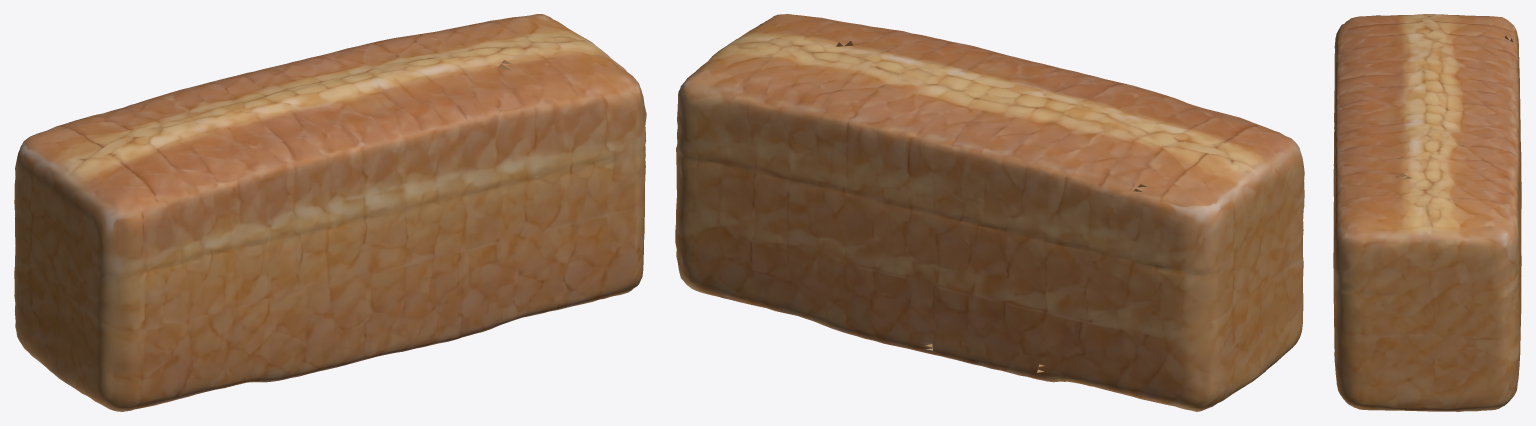
File: bread.glb
The picture shows the model from 3 angles, left to right: view 1: azimuth 30°, elevation 25°; view 2: azimuth 150°, elevation 25°; view 3: azimuth 270°, elevation 25°; orthographic projection. The views are drawn at different scales.
Parts seen in each view (by area): view 1: geometry_0; view 2: geometry_0; view 3: geometry_0.
Boxes of the visible parts, left/top/right/bottom form: geometry_0: left=14, top=14, right=646, bottom=411; geometry_0: left=675, top=14, right=1304, bottom=411; geometry_0: left=1333, top=14, right=1521, bottom=411.
Bounding box in the file's own units: 1 × 0.4236 × 0.3557.
1 material, 1 textured.
